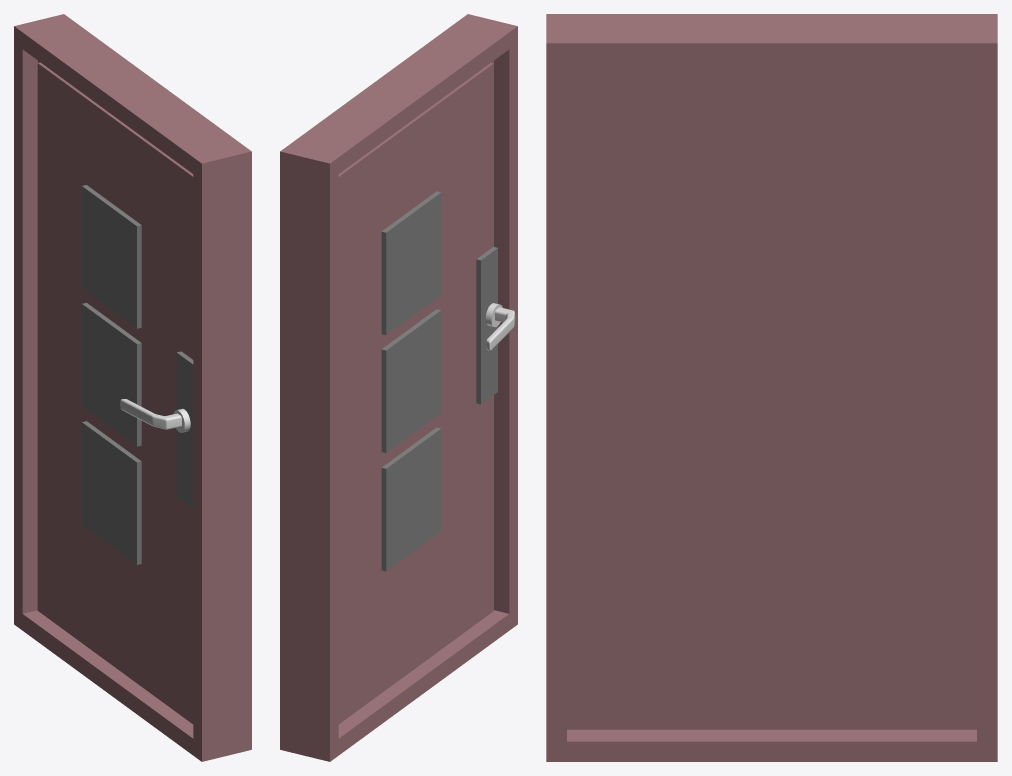
File: door.fbx
3 views of the same model, side by side, from view 1: azimuth 30°, elevation 25°; view 2: azimuth 150°, elevation 25°; view 3: azimuth 270°, elevation 25° (orthographic). The views are drawn at different scales.
Parts seen in each view (by area): view 1: polySurface26; view 2: polySurface26; view 3: polySurface26.
Boxes of the visible parts, bbox=[...] form: polySurface26: bbox=[14, 14, 251, 761]; polySurface26: bbox=[280, 14, 517, 761]; polySurface26: bbox=[546, 14, 997, 761].
Bounding box in the file's own units: 0.2053 × 1.52 × 0.8643.
